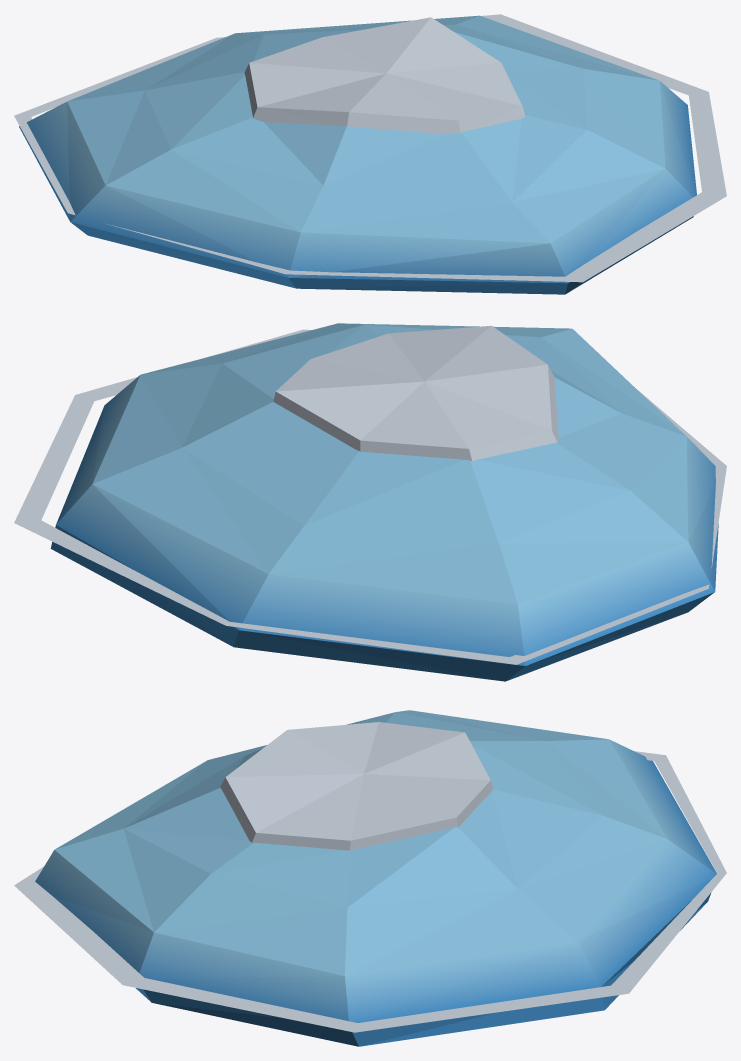
Rendered from ArcticV2_Prop_Iceberg_Flat.fbx.
3 renders of one model, top to bottom at view 1: azimuth 30°, elevation 25°; view 2: azimuth 150°, elevation 25°; view 3: azimuth 270°, elevation 25°, orthographic. The views are drawn at different scales.
Visible parts, largest first — view 1: ArcticV2_Prop_Iceberg_Flat; view 2: ArcticV2_Prop_Iceberg_Flat; view 3: ArcticV2_Prop_Iceberg_Flat.
Boxes of the visible parts, <box> form: ArcticV2_Prop_Iceberg_Flat: <box>14,14,726,294</box>; ArcticV2_Prop_Iceberg_Flat: <box>14,323,726,681</box>; ArcticV2_Prop_Iceberg_Flat: <box>14,710,726,1046</box>.
Bounding box in the file's own units: 0.9323 × 0.1844 × 0.9104.
